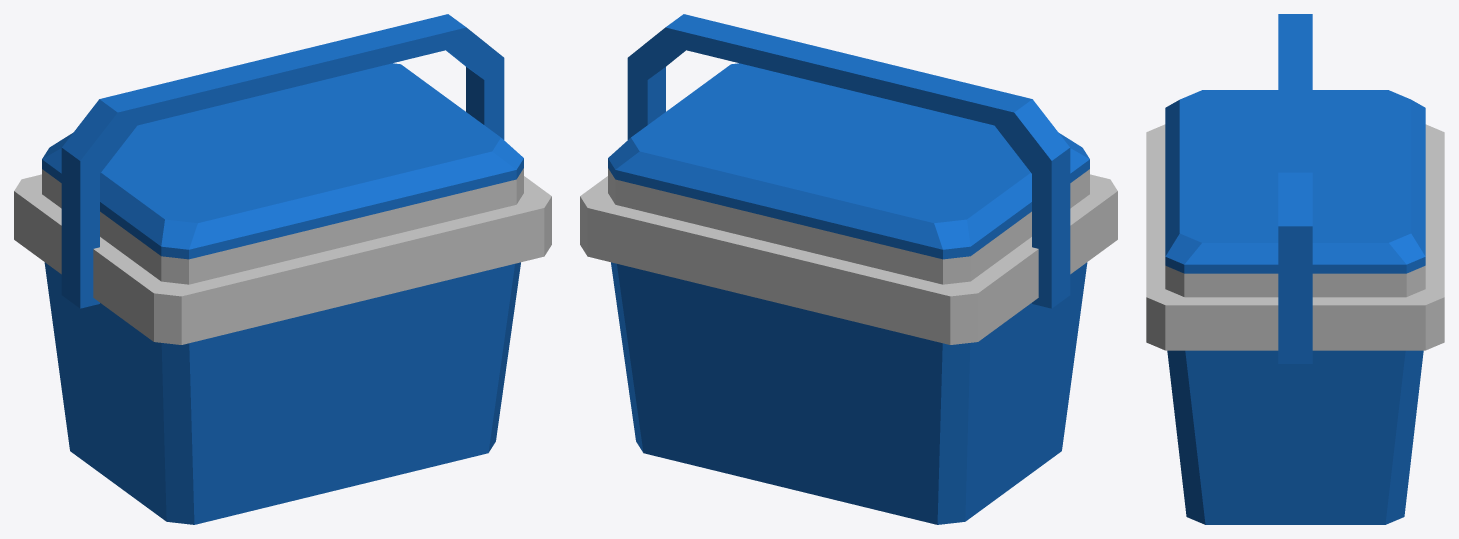
The model's file is SM_refrigerator_1.fbx.
The picture shows the model from 3 angles, left to right: view 1: azimuth 30°, elevation 25°; view 2: azimuth 150°, elevation 25°; view 3: azimuth 270°, elevation 25°; orthographic projection. The views are drawn at different scales.
Parts seen in each view (by area): view 1: Cube_7; view 2: Cube_7; view 3: Cube_7.
Boxes of the visible parts, box(x1,y1,x2,y2) form: Cube_7: box(14, 14, 551, 524); Cube_7: box(580, 14, 1117, 524); Cube_7: box(1146, 14, 1444, 524).
Bounding box in the file's own units: 40.86 × 35.27 × 26.71.
